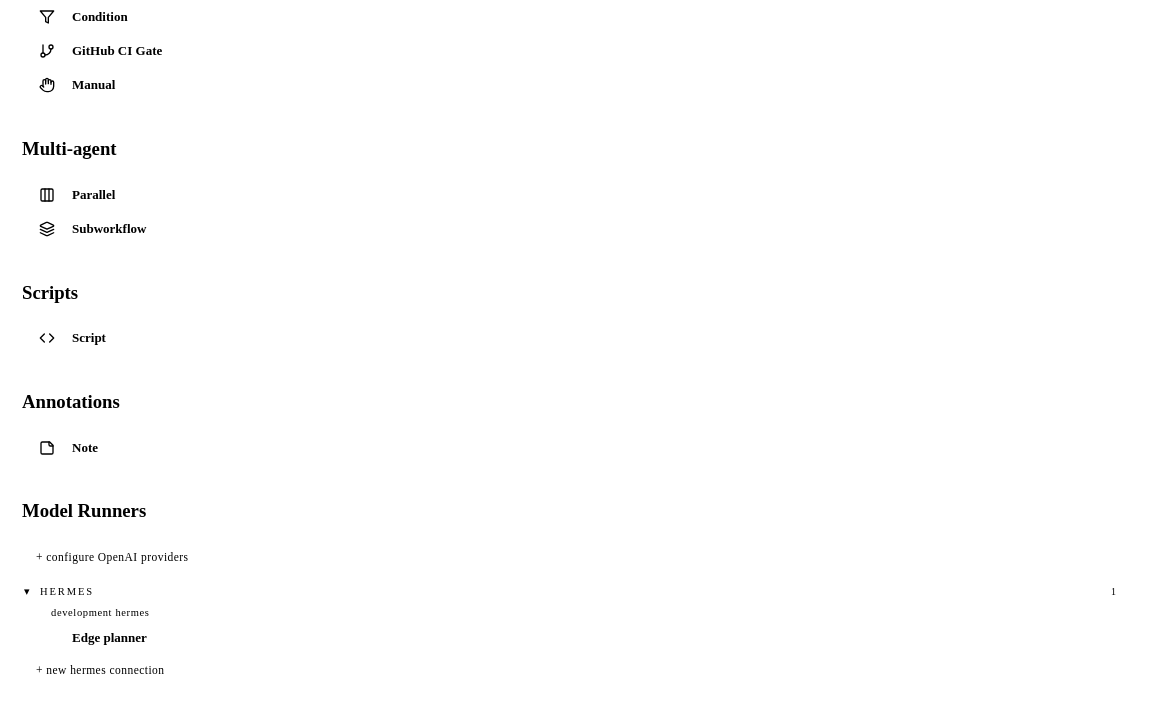
Scenario: Palette › includes Hermes-backed runners in search results
(page scrolled)
Expected: the button with aria-label "add hermes-edge agent node" is shown, [22,621,1130,654]
Click the button "▾ Hermes 1".
click(67, 592)  # box [22,581,1130,602]
(page scrolled)
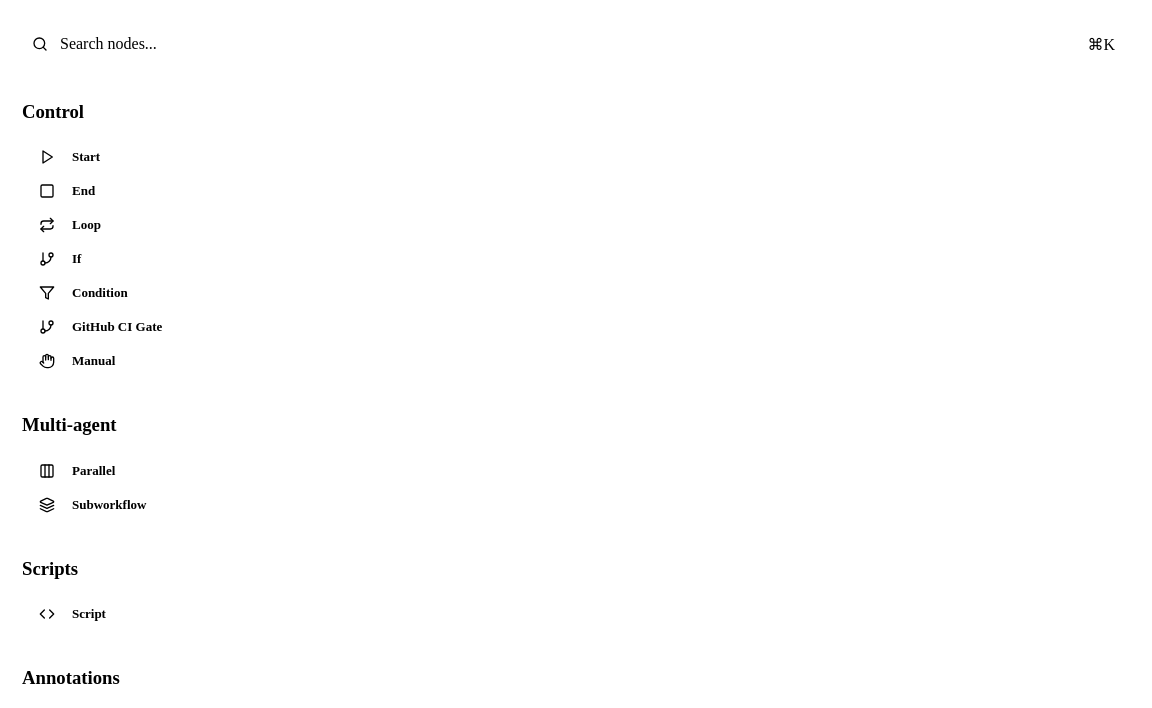
Type "edge planner" into the search field named "Search nodes".
click(566, 44); type("edge planner")  # box [58,34,1074,54]
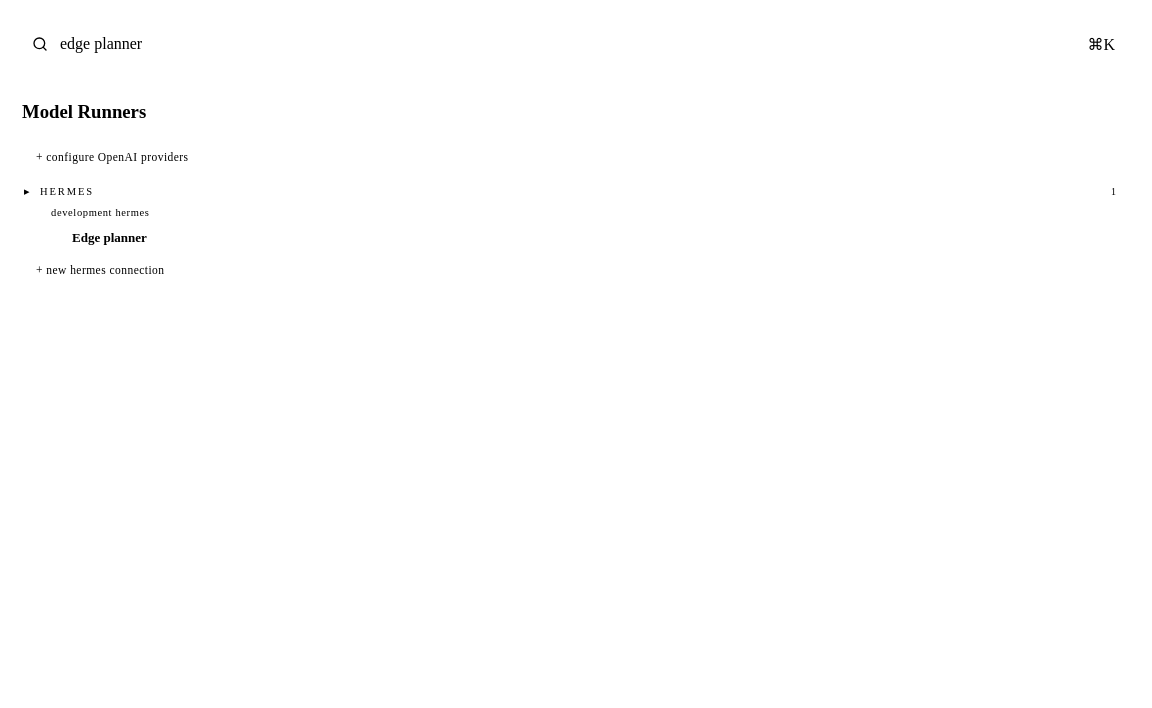
Expected: the button with aria-label "add hermes-edge agent node" is shown, [22,221,1130,254]
